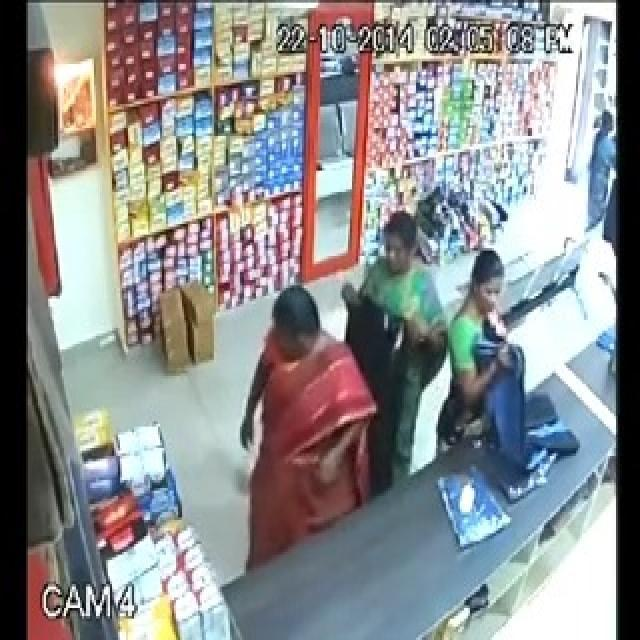Normal: (233, 265, 373, 578), (428, 239, 590, 492), (340, 195, 450, 506)
